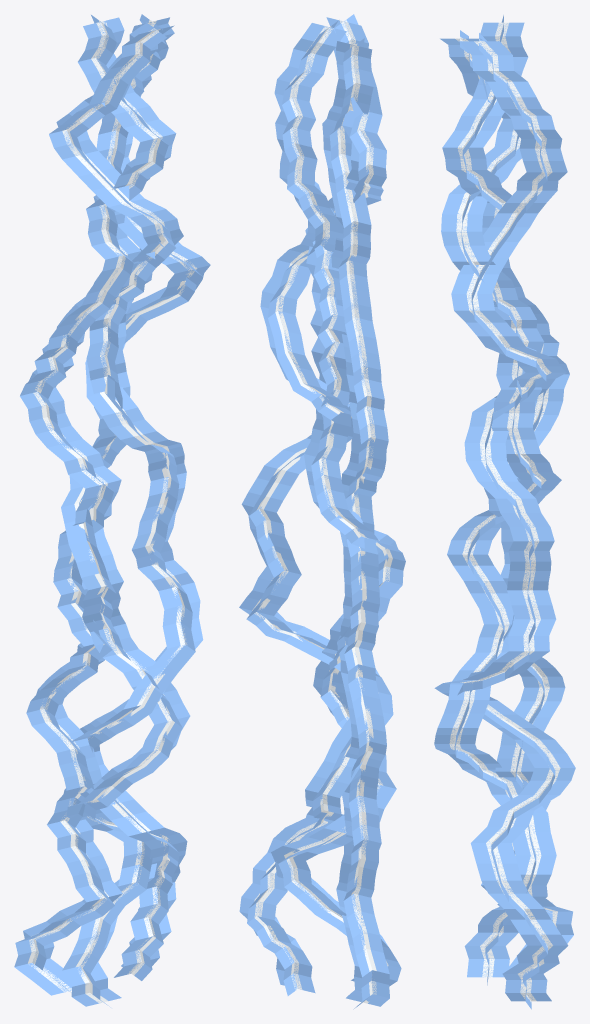
Rendered from spektr_bolt_0.glb.
3 views of the same model, side by side, from view 1: azimuth 30°, elevation 25°; view 2: azimuth 150°, elevation 25°; view 3: azimuth 270°, elevation 25° (orthographic). The views are drawn at different scales.
Bounding box in the file's own units: 0.6507 × 3.6 × 0.4827.
